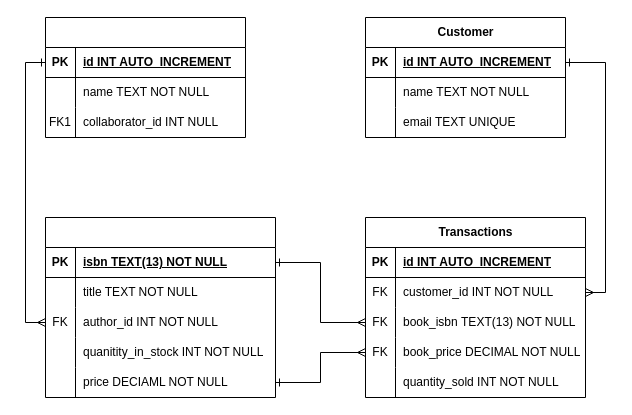
Image size: 632x415. Some labels were removed from this diagram. Here are the shapes that lost their labels. From the top down, the box of each, then its label:
(44, 16, 246, 138): Authors
(44, 216, 276, 398): Books
